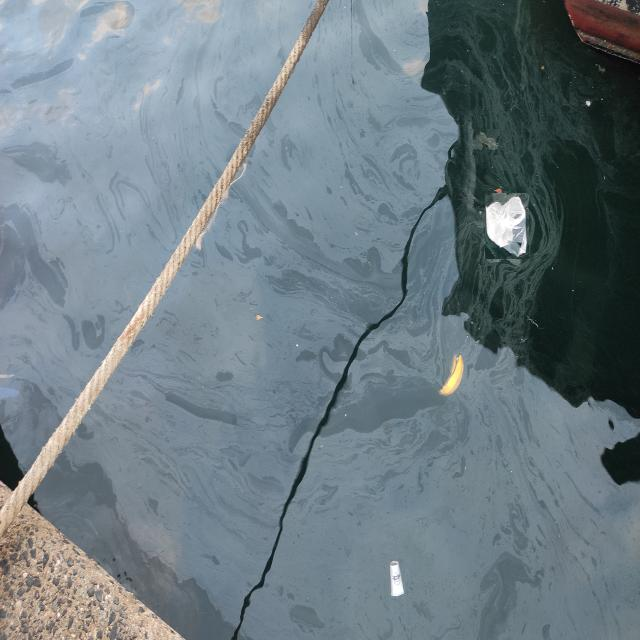Plastic bag: (484, 193, 528, 260), (470, 129, 500, 155)
Plastic cup: (389, 559, 405, 599)
